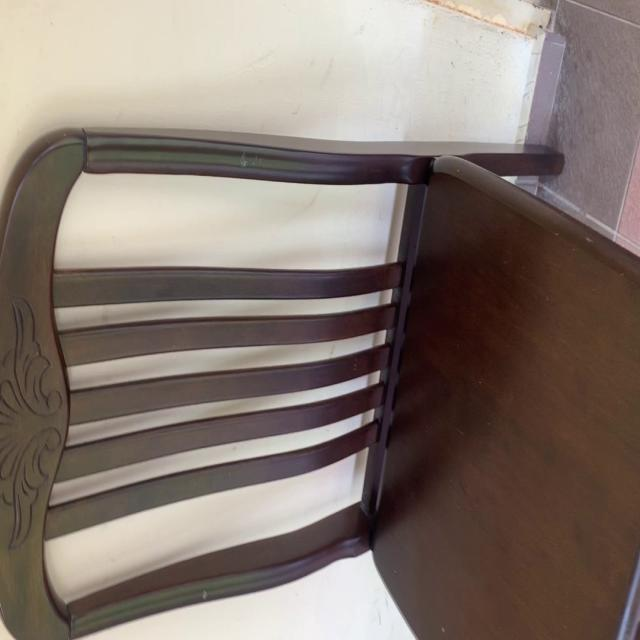Chair: (1, 121, 640, 640)
